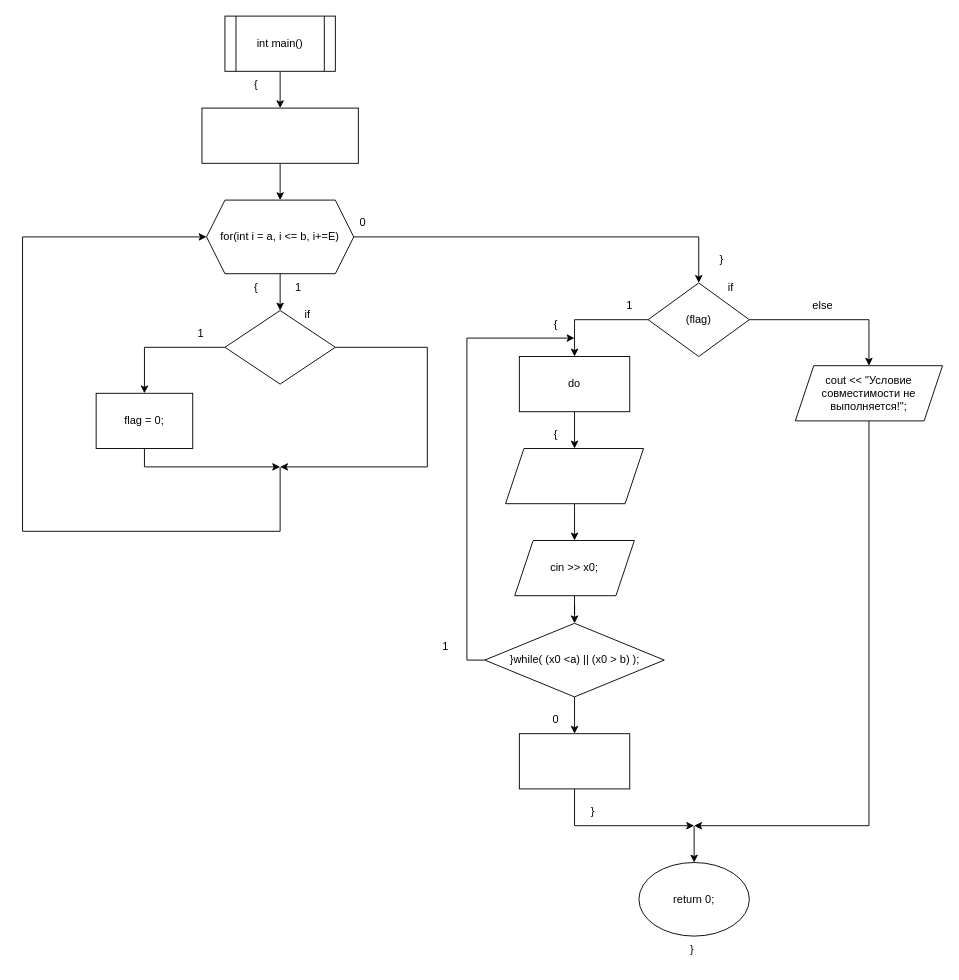
The diagram is 959 pixels wide and 980 high, and some of its shapes have lost their labels. The shapes that lost their labels are listed below. From the top down, each one's box as (x1, y1, x2, y2) in pixels, then its label:
(201, 107, 358, 163): setlocale(LC_ALL, "Russian");
(224, 310, 335, 384): ( abs(f_pr(i)) >= 1)
(505, 448, 644, 504): cout << "Введите значение x0: ";
(518, 733, 630, 789): rec(x0, x1);
